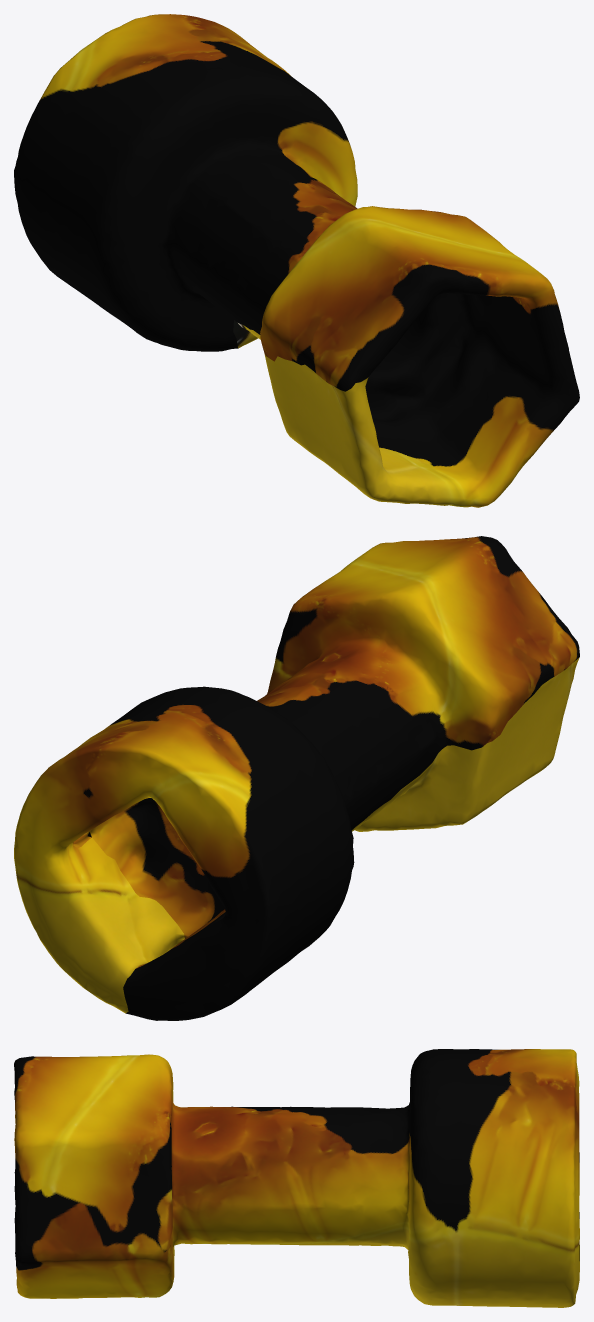
3 views of the same model, one above another, from view 1: azimuth 30°, elevation 25°; view 2: azimuth 150°, elevation 25°; view 3: azimuth 270°, elevation 25° (orthographic). The views are drawn at different scales.
Size of the model in its own units: 0.0307 by 0.0306 by 0.0667.
